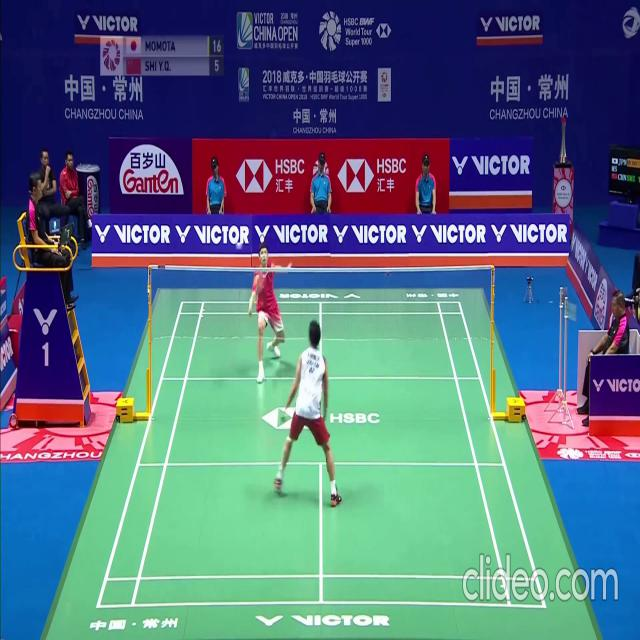Shuttlecock: (235, 240, 240, 248)
